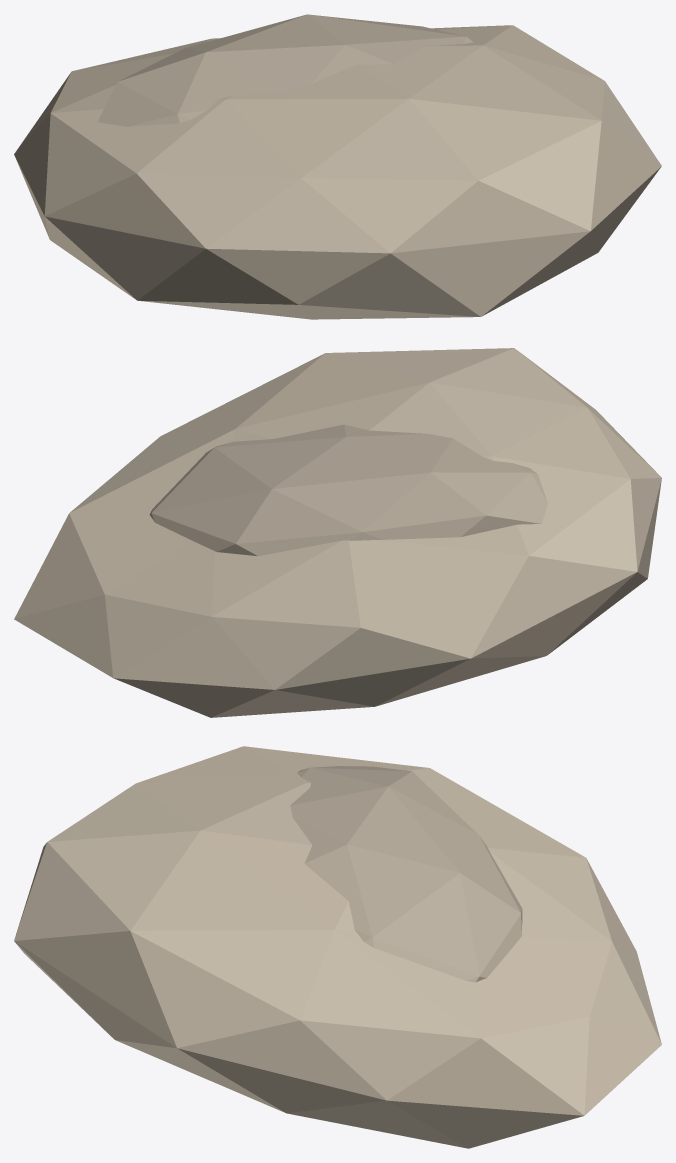
The model's file is campo_rock_slate_0.glb.
3 renders of one model, top to bottom at view 1: azimuth 30°, elevation 25°; view 2: azimuth 150°, elevation 25°; view 3: azimuth 270°, elevation 25°, orthographic. The views are drawn at different scales.
Parts seen in each view (by area): view 1: campo_rock_slate_0.glb; view 2: campo_rock_slate_0.glb; view 3: campo_rock_slate_0.glb.
Part boxes in pixels (left/top/right/bottom): campo_rock_slate_0.glb: left=14, top=14, right=661, bottom=319; campo_rock_slate_0.glb: left=14, top=348, right=661, bottom=717; campo_rock_slate_0.glb: left=14, top=746, right=661, bottom=1148.
Bounding box in the file's own units: 1.93 × 0.7398 × 1.99.
